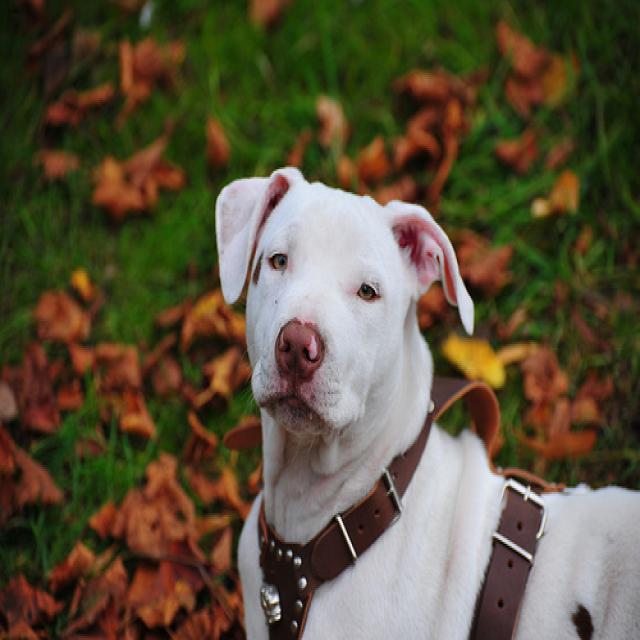dog-american_pit_bull_terrier: (211, 154, 637, 636)
